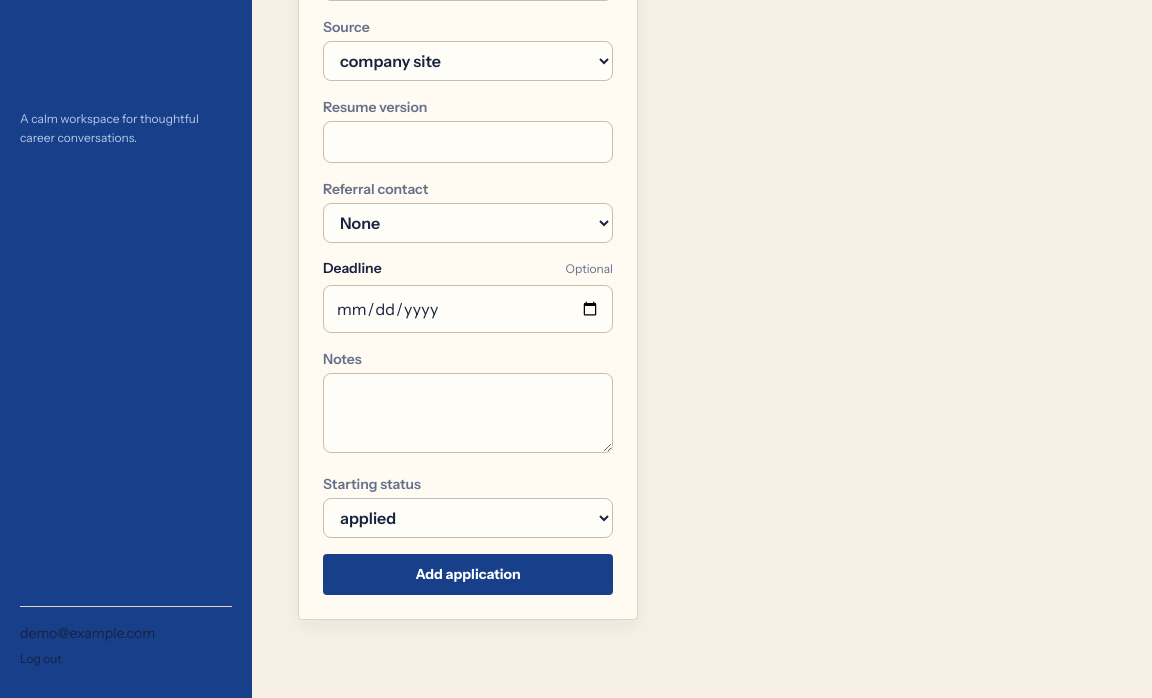
Test: applications pipeline › requires company and role before saving
(page scrolled)
Click the button "Add application" at (468, 575), box [323,554,613,595]
(page scrolled)
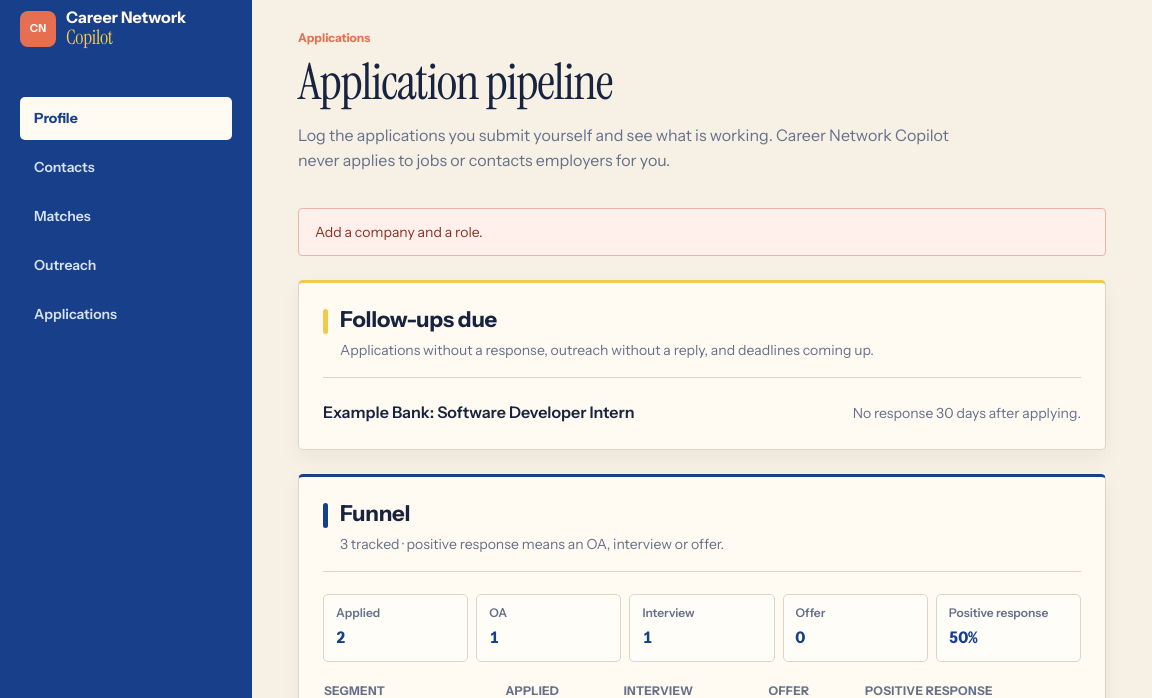
Result: the text "Add a company and a role." is shown at [298,208,1106,256]
